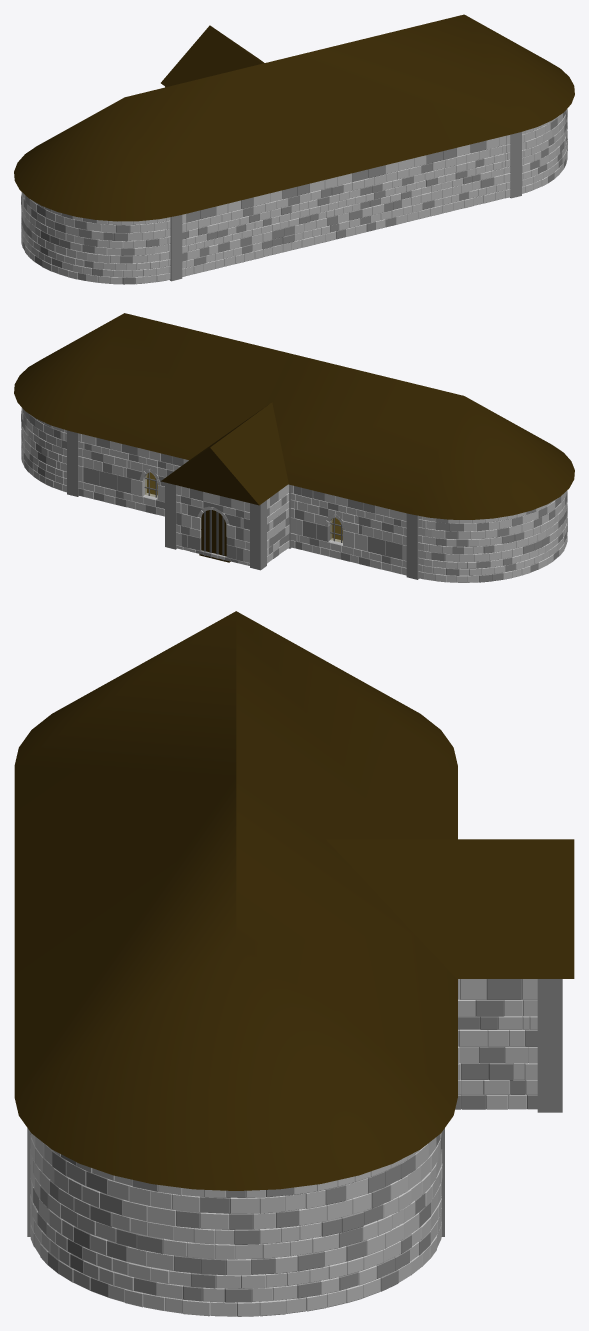
File: small castle.fbx
3 renders of one model, top to bottom at view 1: azimuth 30°, elevation 25°; view 2: azimuth 150°, elevation 25°; view 3: azimuth 270°, elevation 25°, orthographic. The views are drawn at different scales.
Visible parts, largest first — view 1: small castle; view 2: small castle; view 3: small castle.
Boxes of the visible parts, bbox=[...] form: small castle: bbox=[14, 14, 574, 284]; small castle: bbox=[14, 313, 574, 582]; small castle: bbox=[14, 611, 574, 1316].
Bounding box in the file's own units: 12520 × 3282 × 5708.
